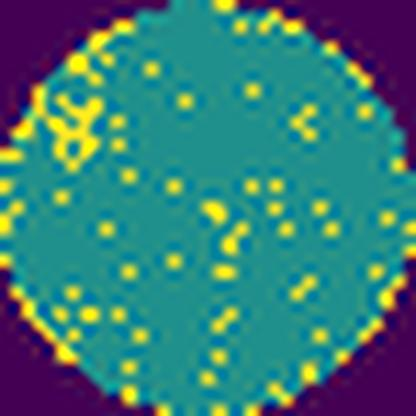Loc: (35, 91, 105, 177)
